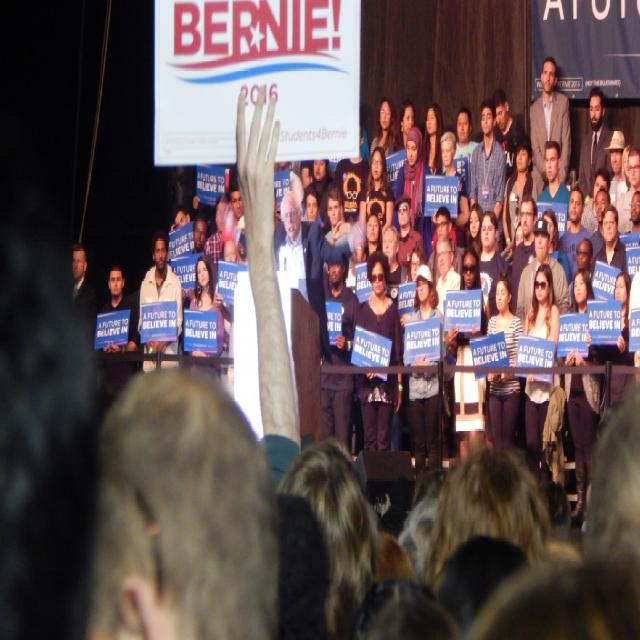body: (270, 430, 639, 639), (102, 370, 270, 639), (0, 219, 103, 639), (219, 190, 367, 358), (350, 248, 405, 450), (442, 242, 491, 468), (224, 159, 330, 262), (402, 262, 447, 494), (318, 240, 365, 456), (563, 264, 601, 520), (522, 261, 562, 485), (486, 277, 526, 453), (92, 259, 140, 405), (526, 53, 572, 200), (137, 231, 184, 373), (468, 98, 508, 252), (393, 124, 436, 264), (246, 261, 296, 371), (584, 268, 636, 366), (576, 85, 614, 206), (415, 101, 443, 263), (476, 208, 512, 326), (321, 184, 356, 302), (501, 139, 537, 252), (508, 192, 539, 319), (187, 253, 224, 357), (588, 201, 628, 295), (535, 138, 571, 241), (233, 83, 279, 161), (557, 184, 593, 282), (426, 204, 464, 294), (436, 129, 470, 229), (492, 88, 528, 180), (333, 122, 367, 219), (68, 241, 99, 338), (365, 144, 396, 236), (392, 194, 426, 276), (603, 128, 628, 234), (398, 243, 428, 329), (180, 215, 208, 306), (542, 206, 572, 288), (434, 232, 462, 318), (580, 164, 612, 236), (598, 381, 640, 432), (203, 192, 232, 264), (379, 222, 411, 287), (568, 235, 596, 309), (620, 189, 640, 283), (385, 97, 415, 159), (270, 370, 300, 432), (588, 184, 612, 260), (369, 96, 397, 160), (454, 108, 481, 163), (615, 146, 634, 210), (362, 211, 384, 263), (466, 200, 485, 254), (358, 118, 371, 166), (172, 202, 191, 229), (622, 146, 634, 177), (514, 220, 524, 247)
